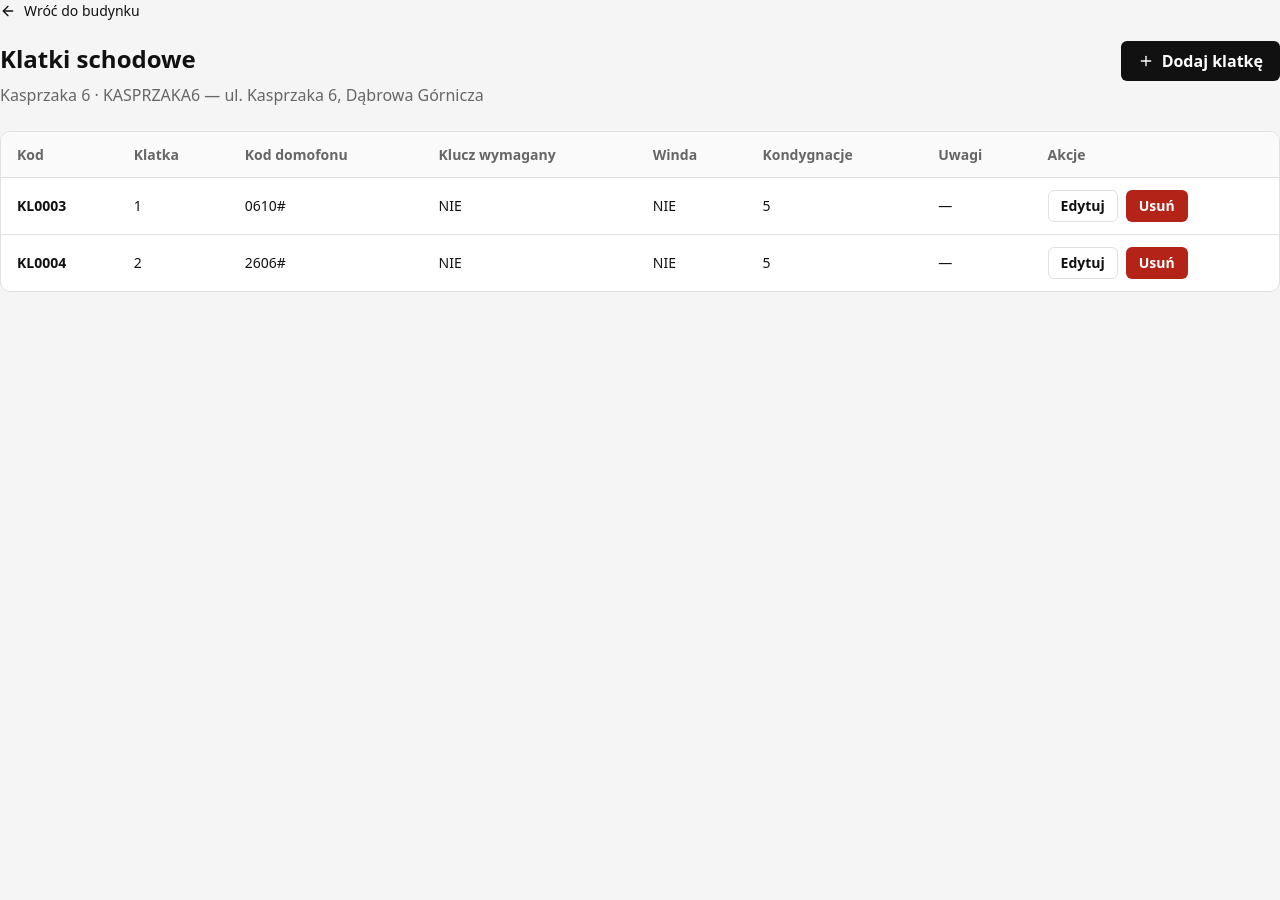
Scenario: BuildingStaircasesPage › creates staircase successfully
The width and height of the screenshot is (1280, 900).
Expected: the text "KL0003" is shown, [1,177,118,234]
Click the button "Dodaj klatkę" at (1200, 60), box [1121,40,1279,80]
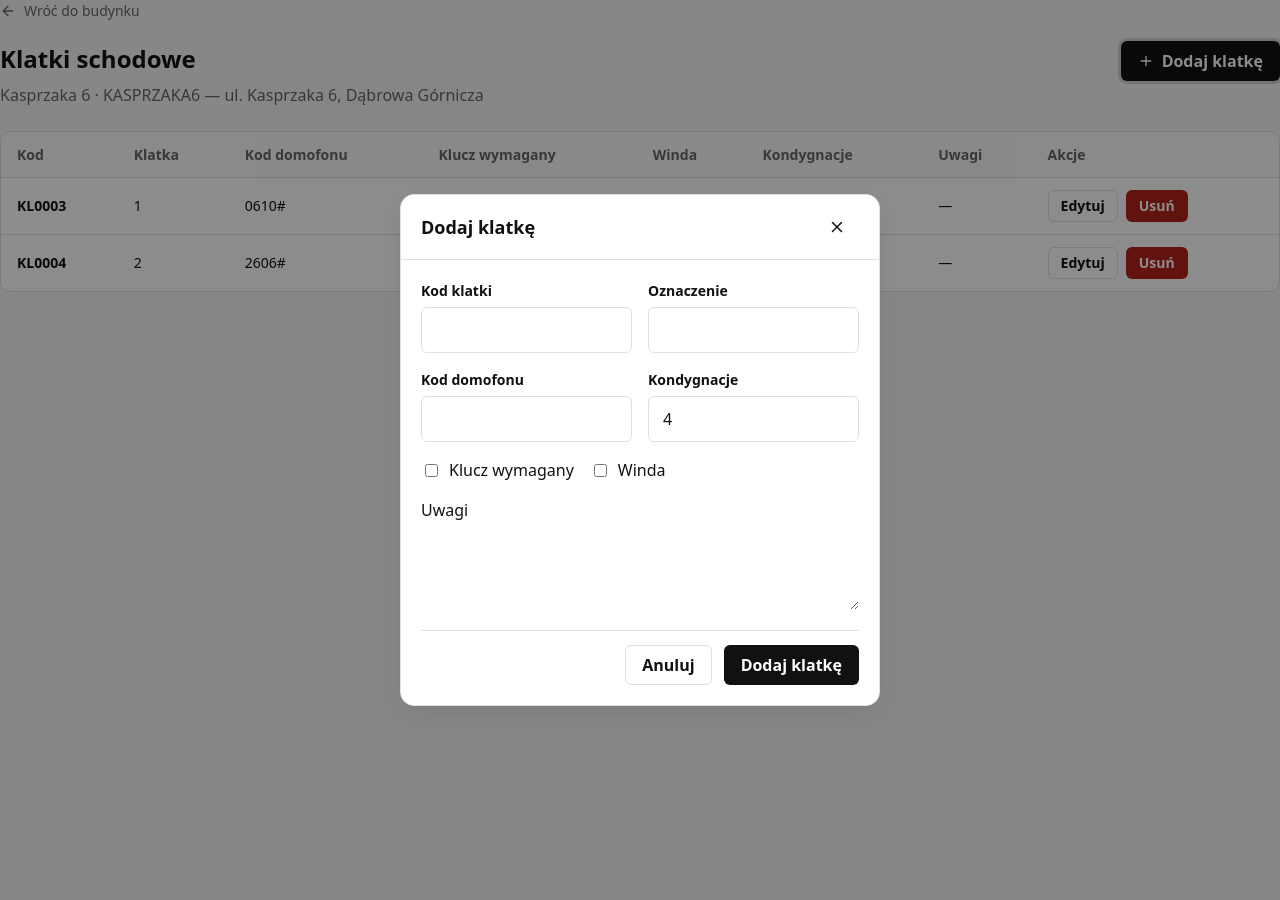
Type "KL0099" into the field labelled "Kod klatki" at (526, 330), box [421,307,632,353]
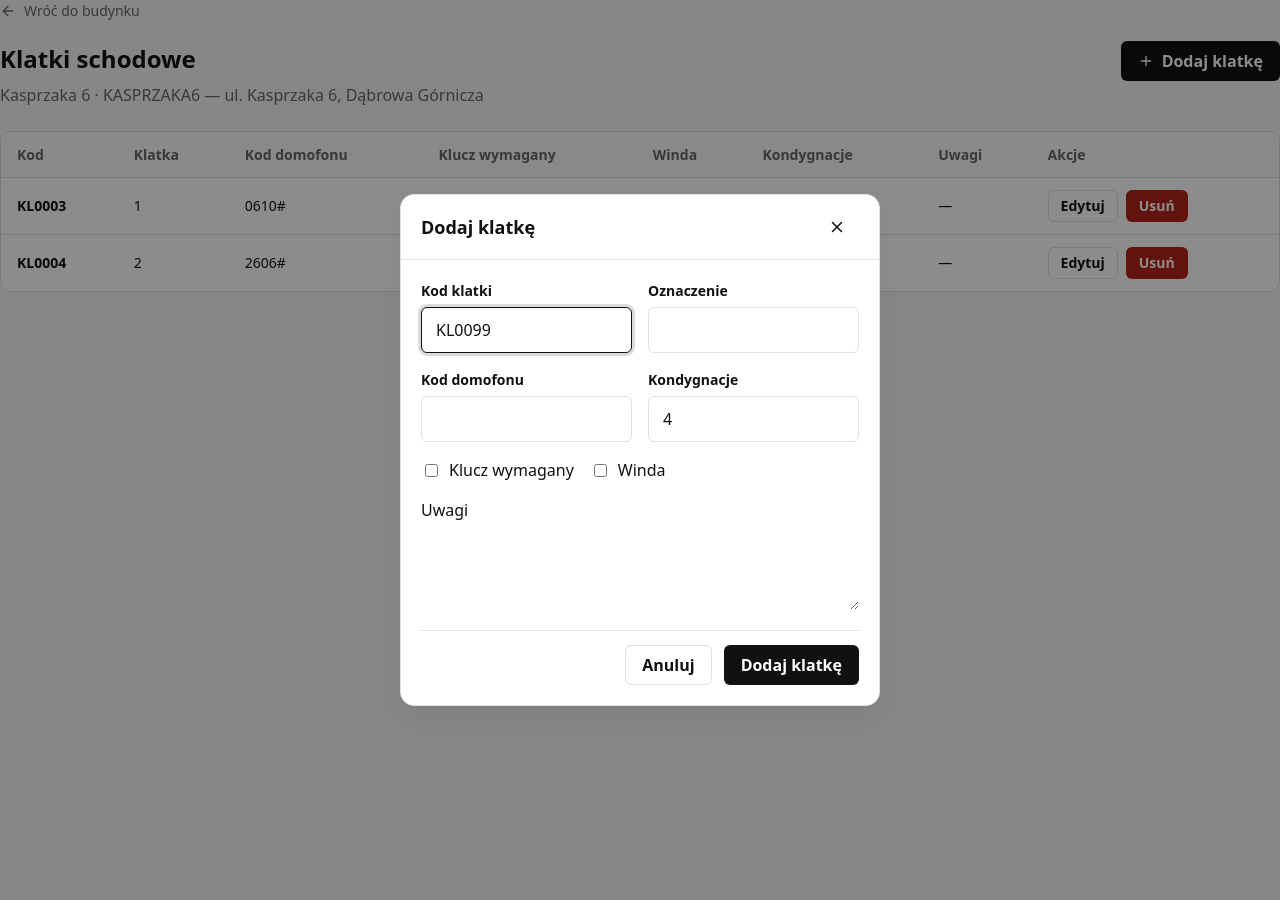
Type "3" into the field labelled "Oznaczenie" at (754, 330), box [648,307,859,353]
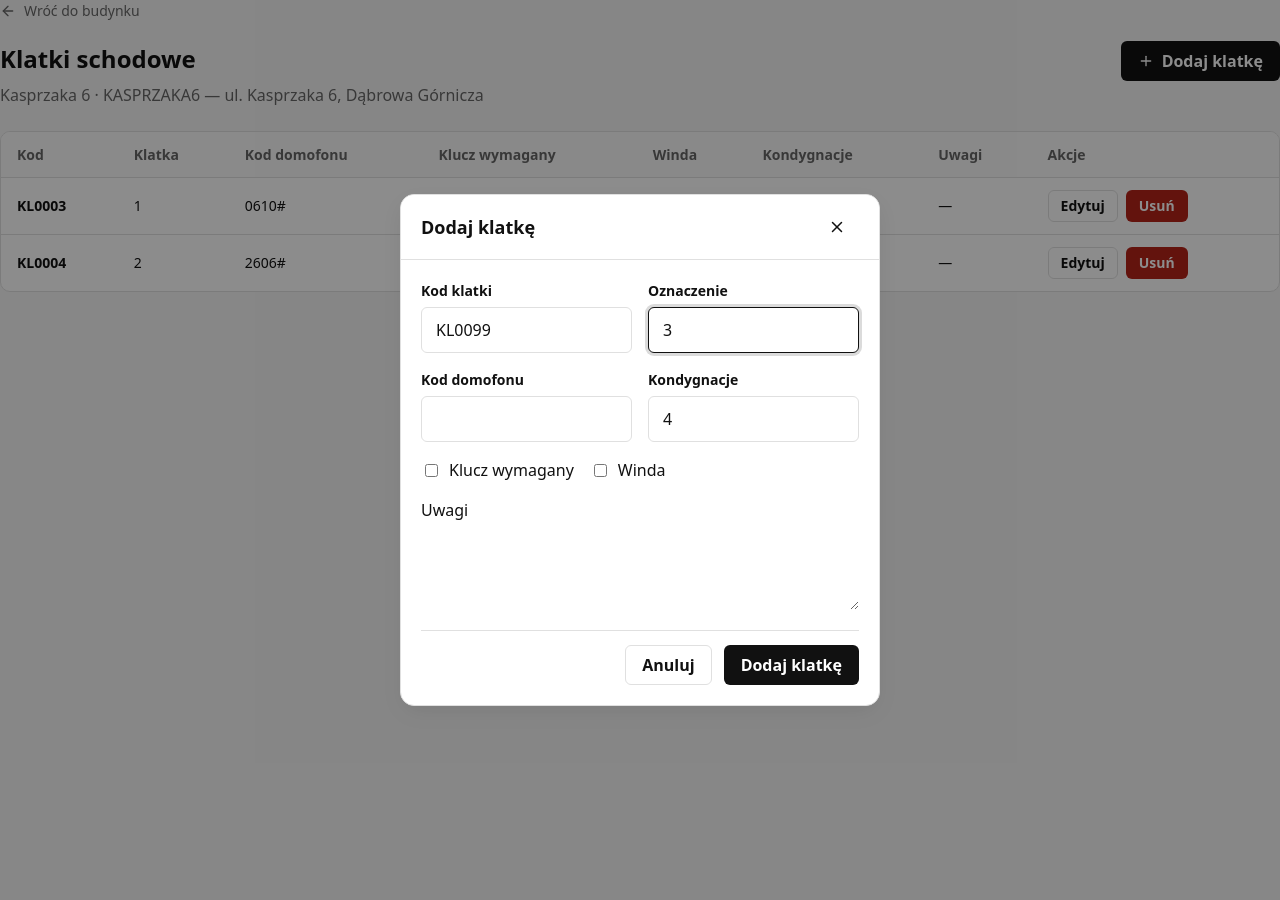
Click the button "Dodaj klatkę" at (791, 665), box [724,645,859,685]
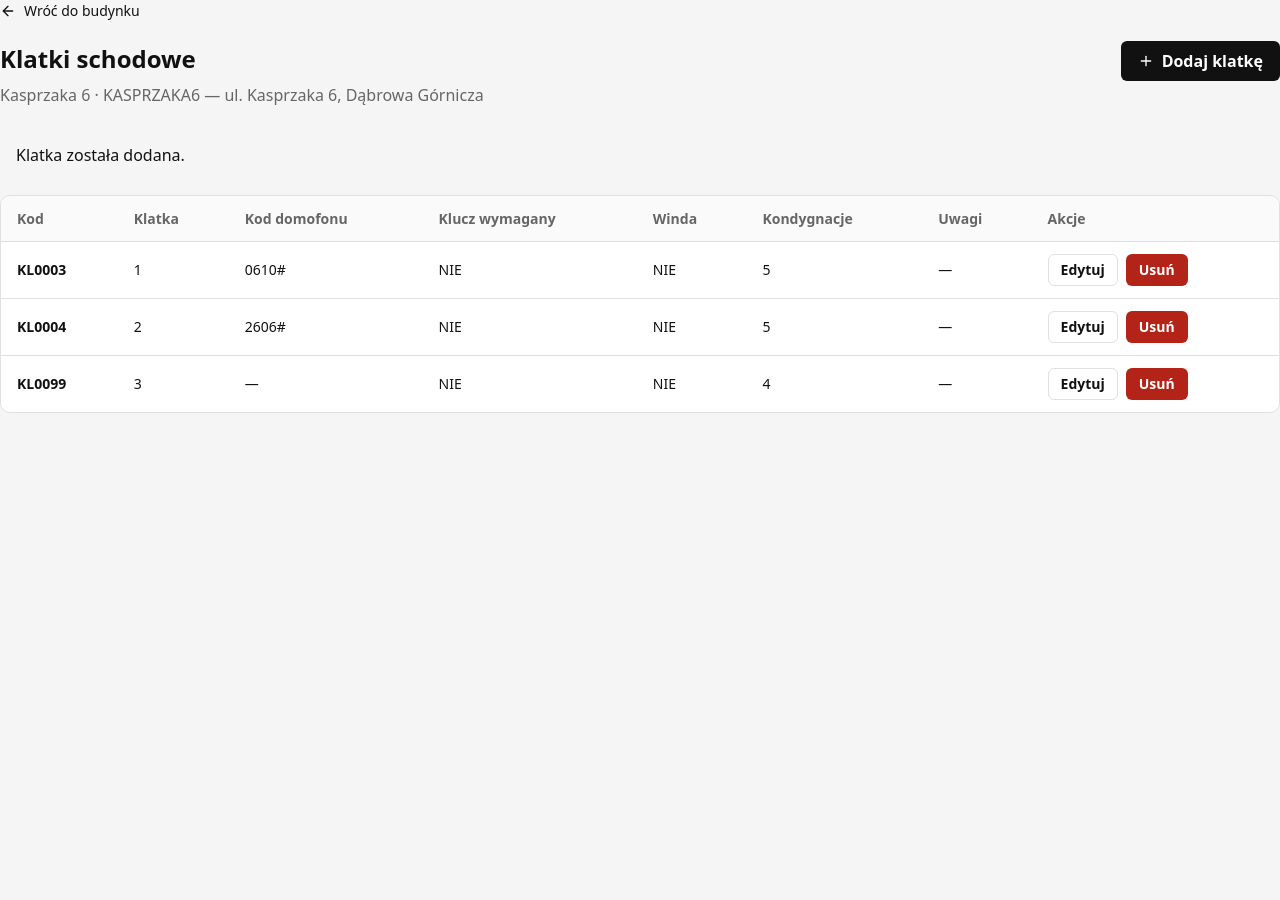
Expected: the text "Klatka została dodana." is shown, [16,144,185,166]
